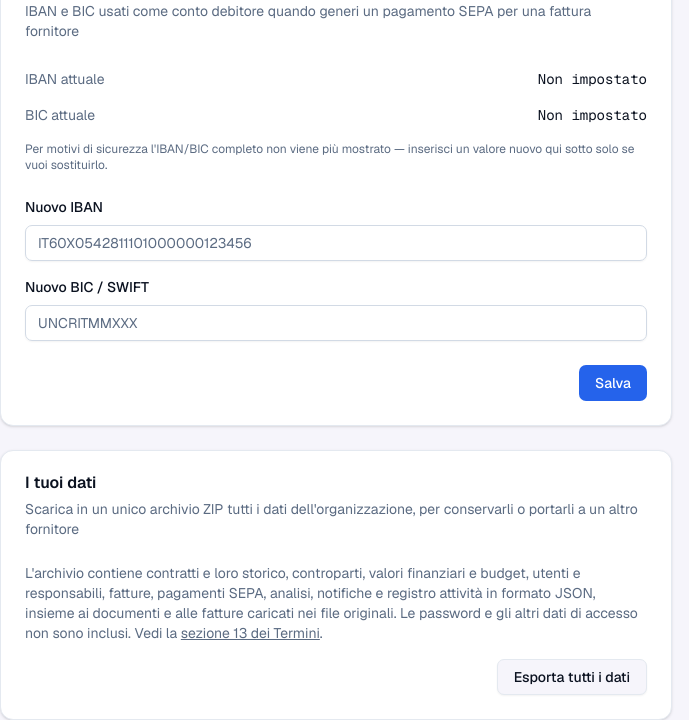
it: OrganizationPage › data export › disables the button while the archive is being prepared
(page scrolled)
Click the button "Esporta tutti i dati": (572, 677) left=497, top=659, right=647, bottom=695
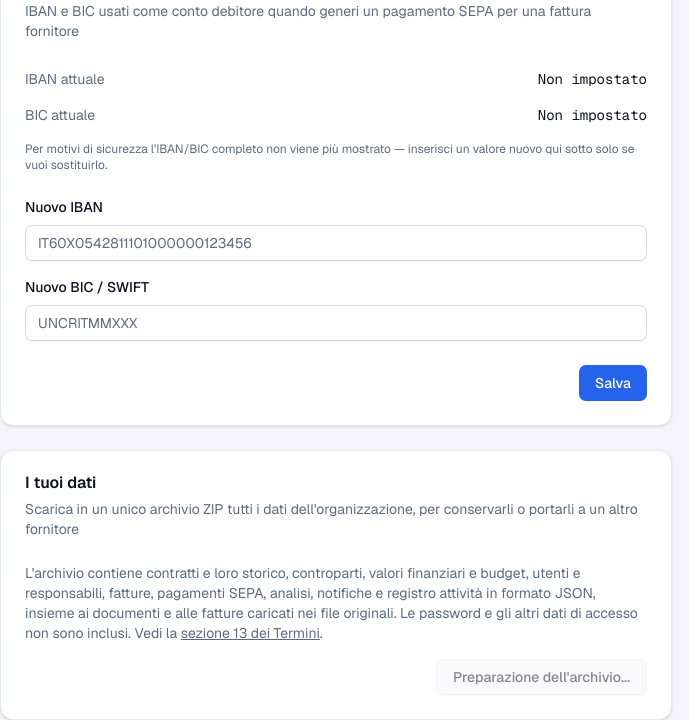
Check: the button "Preparazione dell'archivio..." is disabled, box left=436, top=659, right=647, bottom=695
